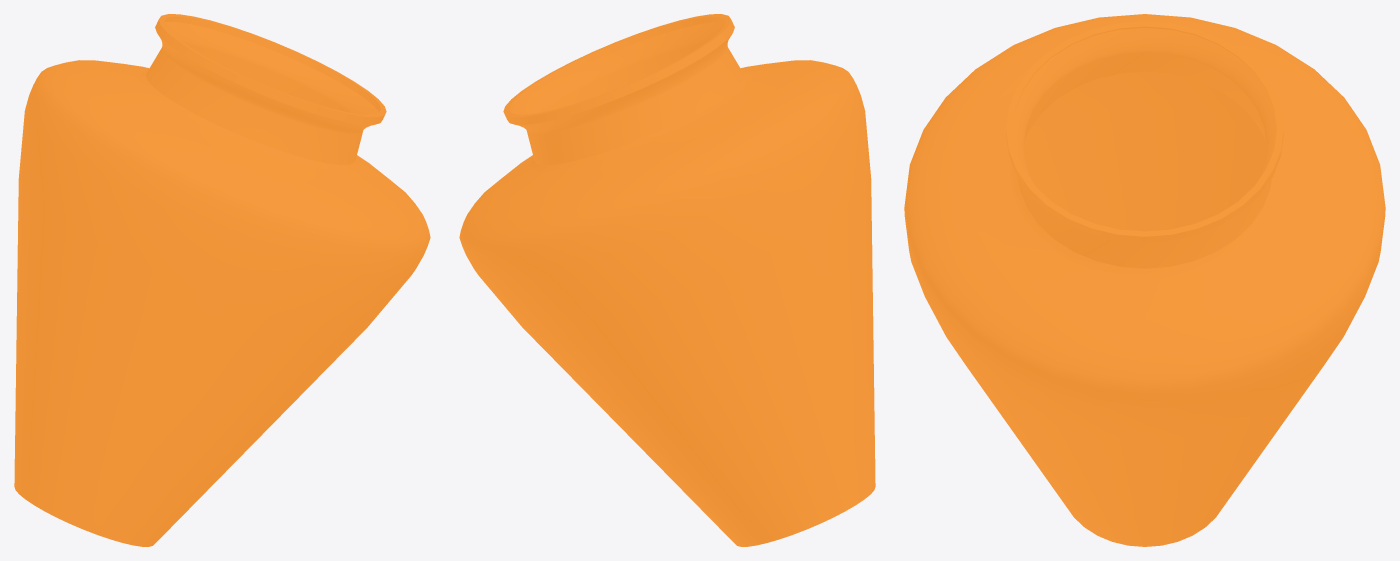
Rendered from vase_animated.glb.
3 views of the same model, side by side, from view 1: azimuth 30°, elevation 25°; view 2: azimuth 150°, elevation 25°; view 3: azimuth 270°, elevation 25° (orthographic). The views are drawn at different scales.
Parts seen in each view (by area): view 1: SM_Vase 32; view 2: SM_Vase 32; view 3: SM_Vase 32.
Part boxes in pixels (<box>): SM_Vase 32: <box>14,14,430,546</box>; SM_Vase 32: <box>459,14,875,546</box>; SM_Vase 32: <box>904,14,1385,546</box>.
Bounding box in the file's own units: 2.46 × 3.04 × 2.44.
